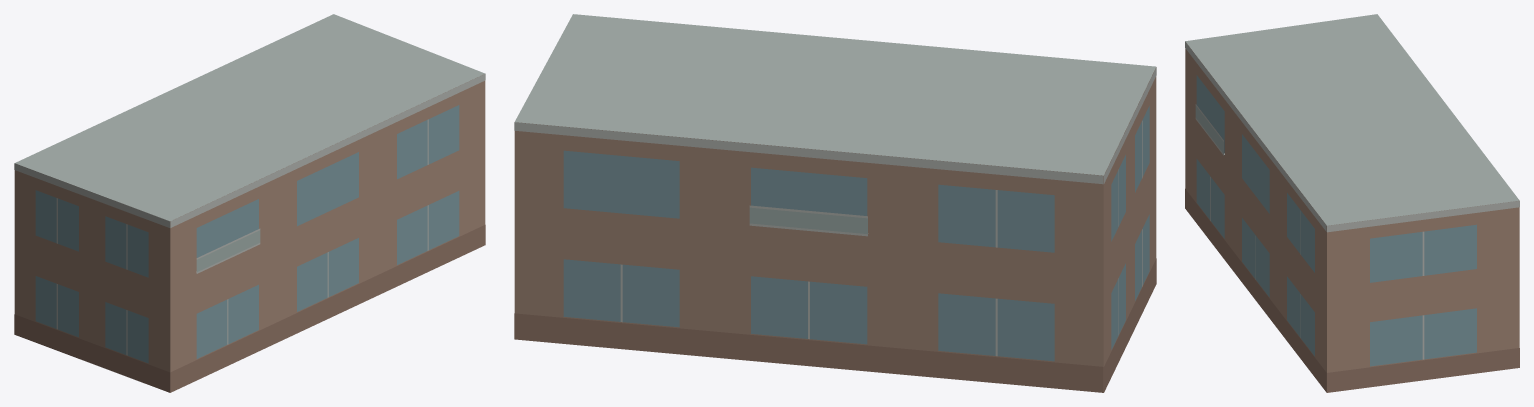
Rendered from survey-upis-32660925.glb.
3 renders of one model, left to right at view 1: azimuth 30°, elevation 25°; view 2: azimuth 150°, elevation 25°; view 3: azimuth 270°, elevation 25°, orthographic. The views are drawn at different scales.
Parts seen in each view (by area): view 1: survey-upis-32660925.tmp; view 2: survey-upis-32660925.tmp; view 3: survey-upis-32660925.tmp.
Boxes of the visible parts, <box> form: survey-upis-32660925.tmp: <box>14,14,485,392</box>; survey-upis-32660925.tmp: <box>514,14,1156,392</box>; survey-upis-32660925.tmp: <box>1185,14,1519,392</box>.
Bounding box in the file's own units: 16.57 × 6.1 × 11.07.
